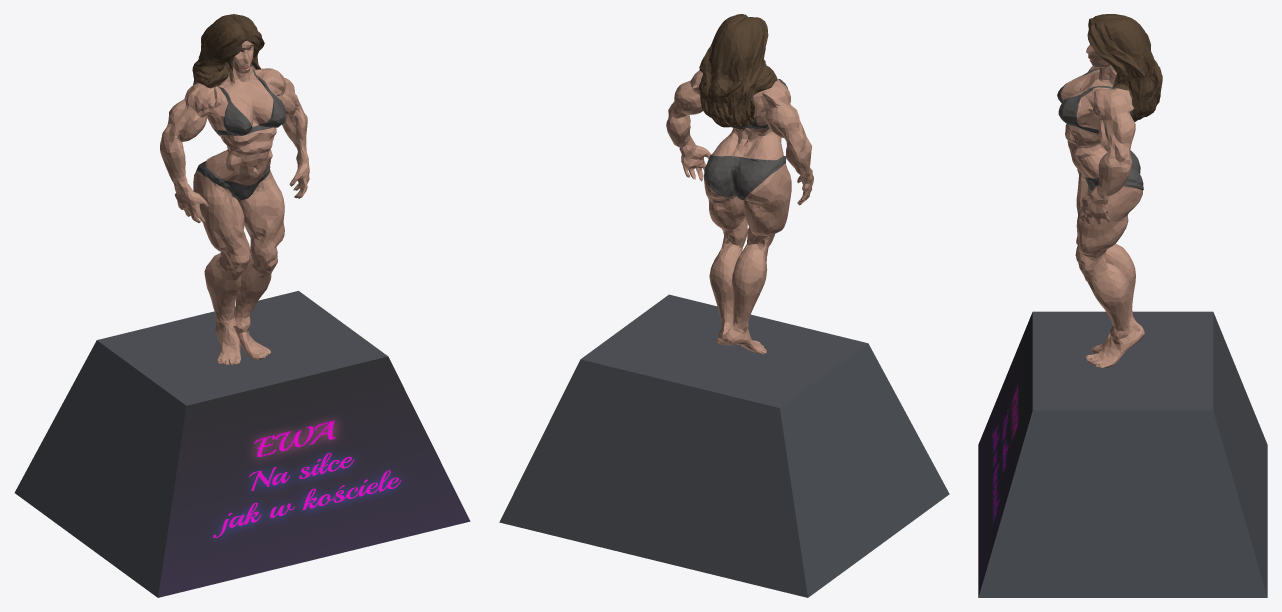
The model's file is brunette.gltf.
The picture shows the model from 3 angles, left to right: view 1: azimuth 30°, elevation 25°; view 2: azimuth 150°, elevation 25°; view 3: azimuth 270°, elevation 25°; orthographic projection.
Visible parts, largest first — view 1: another_stand2.001, another_stand2, Highly_detailed_3D_mo_0522183036_texture.009; view 2: another_stand2, Highly_detailed_3D_mo_0522183036_texture.009; view 3: another_stand2, Highly_detailed_3D_mo_0522183036_texture.009, another_stand2.001.
Boxes of the visible parts, x1,y1,x2,y2 form: another_stand2.001: (158,356,470,597); another_stand2: (14,291,387,597); Highly_detailed_3D_mo_0522183036_texture.009: (160,14,309,364); another_stand2: (499,294,949,597); Highly_detailed_3D_mo_0522183036_texture.009: (666,14,813,354); another_stand2: (978,311,1267,597); Highly_detailed_3D_mo_0522183036_texture.009: (1057,14,1162,368); another_stand2.001: (978,312,1032,597).
Size of the model in its own units: 1.94 by 2.93 by 1.54.
Materials: 7 (1 with a texture image).
